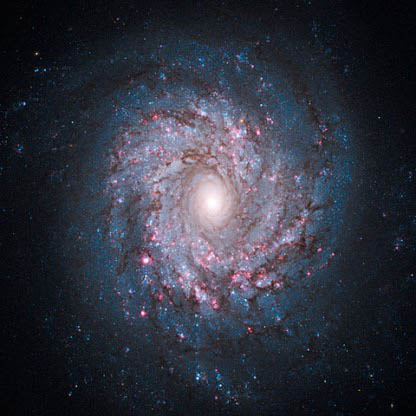NGC 3982: (59, 31, 367, 371)
